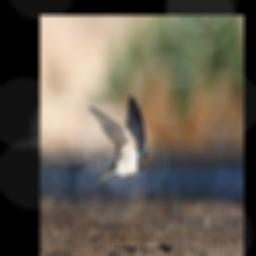Swallow: (89, 95, 152, 187)
